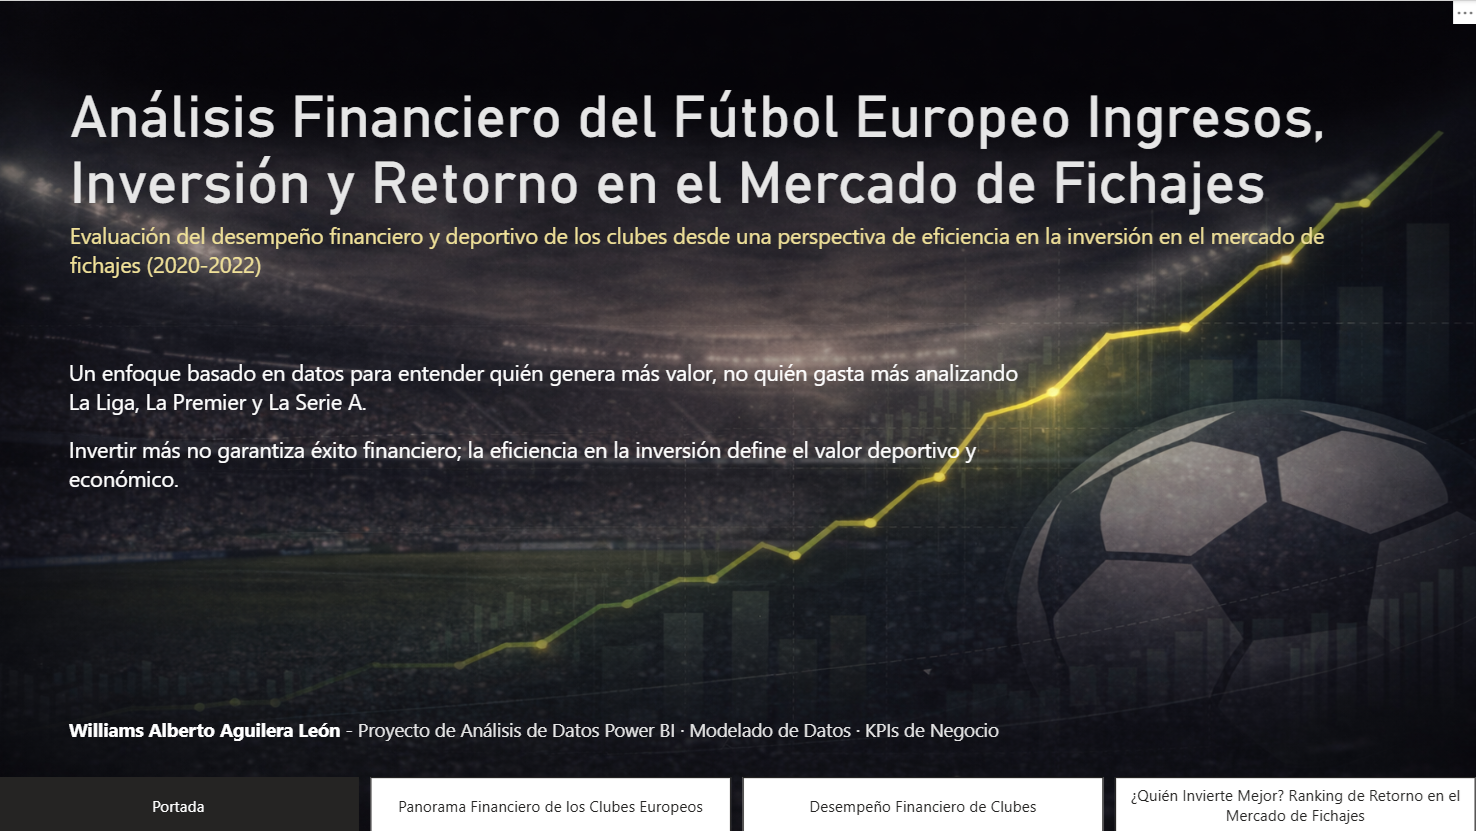

The page's visual inventory and layout, read from the dashboard file:
{"tool":"powerbi","page":{"name":"Portada","canvas":[1280,720],"ordinal":0},"visuals":[{"type":"image","box":[0,0,1280,720],"z":0},{"type":"textbox","title":"Análisis Financiero del Fútbol Europeo Ingresos, Inversión y Retorno en el Mercado de Fichajes","box":[56.9,72,1120,200],"z":1000},{"type":"textbox","box":[56,304,840,136],"z":2000},{"type":"textbox","box":[56,616,856,32],"z":3000},{"type":"pageNavigator","box":[0,672,1280,48],"z":4000}]}

Visuals, with their boxes in screenshot pixels (x1, y1, x2, y2), scaled from the page's 1280x720 canvas onto the 1476x831 screenshot:
image: crop(0, 0, 1475, 830)
"Análisis Financiero del Fútbol Europeo Ingresos, Inversión y Retorno en el Mercado de Fichajes" textbox: crop(66, 83, 1357, 314)
textbox: crop(65, 351, 1033, 508)
textbox: crop(65, 711, 1052, 748)
pageNavigator: crop(0, 776, 1475, 830)
